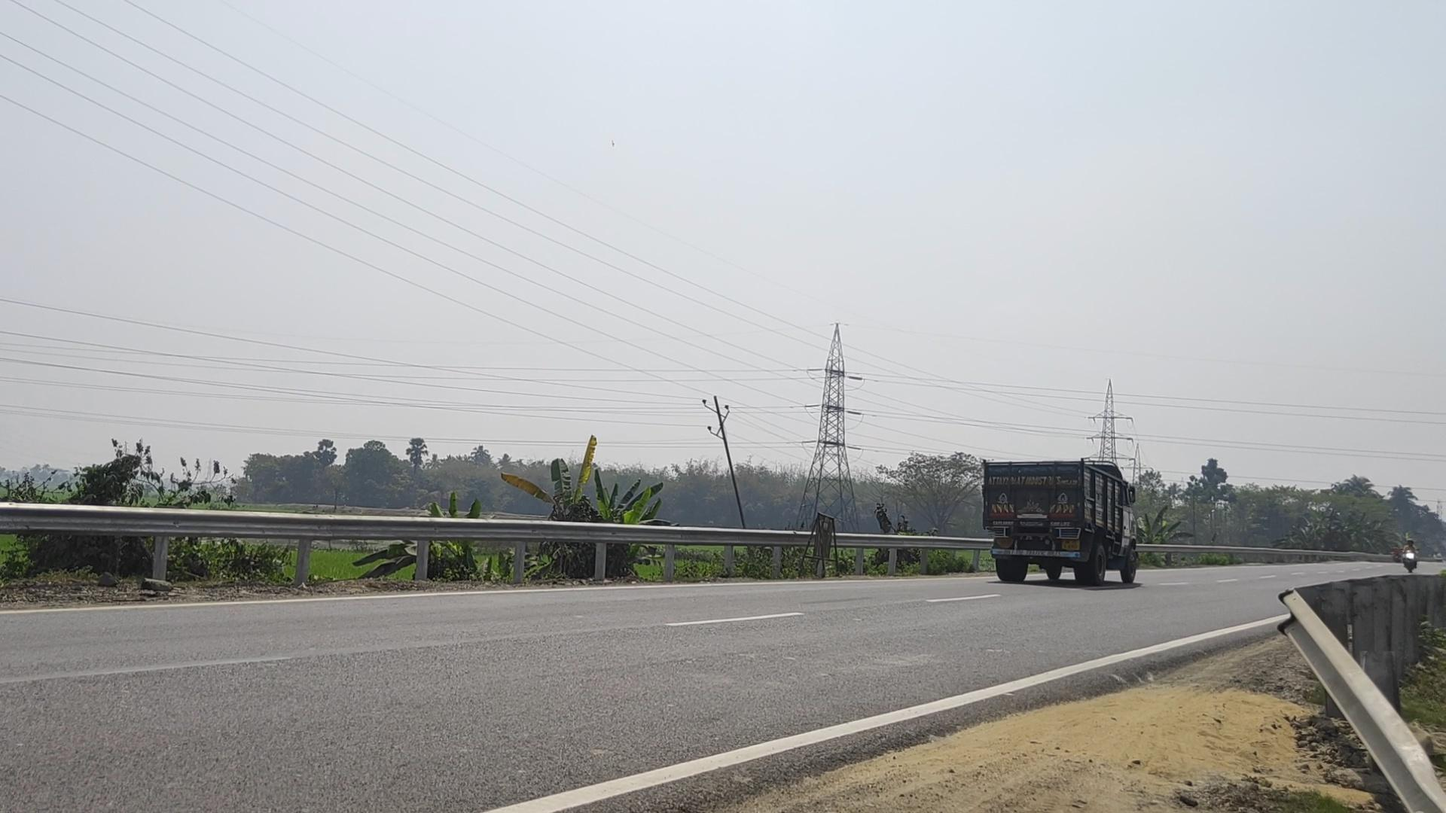bike: (1399, 539, 1420, 574)
truck: (981, 456, 1139, 586)
